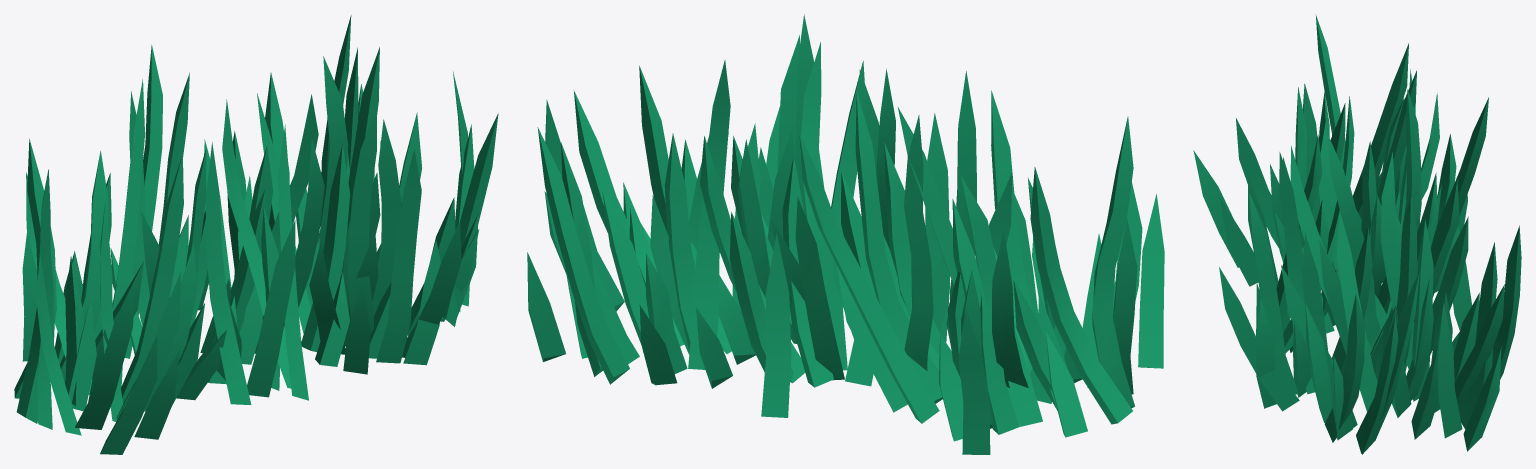
Rendered from coral_seagrass_A_light.fbx.
The picture shows the model from 3 angles, left to right: view 1: azimuth 30°, elevation 25°; view 2: azimuth 150°, elevation 25°; view 3: azimuth 270°, elevation 25°; orthographic projection. The views are drawn at different scales.
Parts seen in each view (by area): view 1: coral_seagrass_A_light; view 2: coral_seagrass_A_light; view 3: coral_seagrass_A_light.
Part boxes in pixels (bbox=[...]): coral_seagrass_A_light: bbox=[14, 15, 498, 454]; coral_seagrass_A_light: bbox=[527, 14, 1164, 454]; coral_seagrass_A_light: bbox=[1193, 14, 1521, 454].
Size of the model in its own units: 124 by 68.87 by 79.66.
